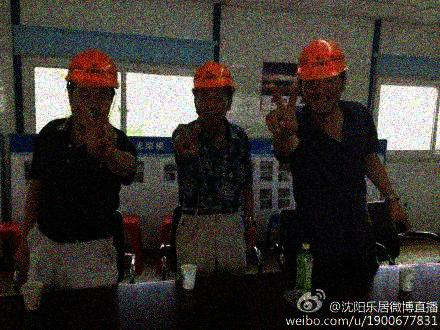helmet: (292, 39, 350, 116), (66, 49, 119, 128), (191, 61, 235, 125)
